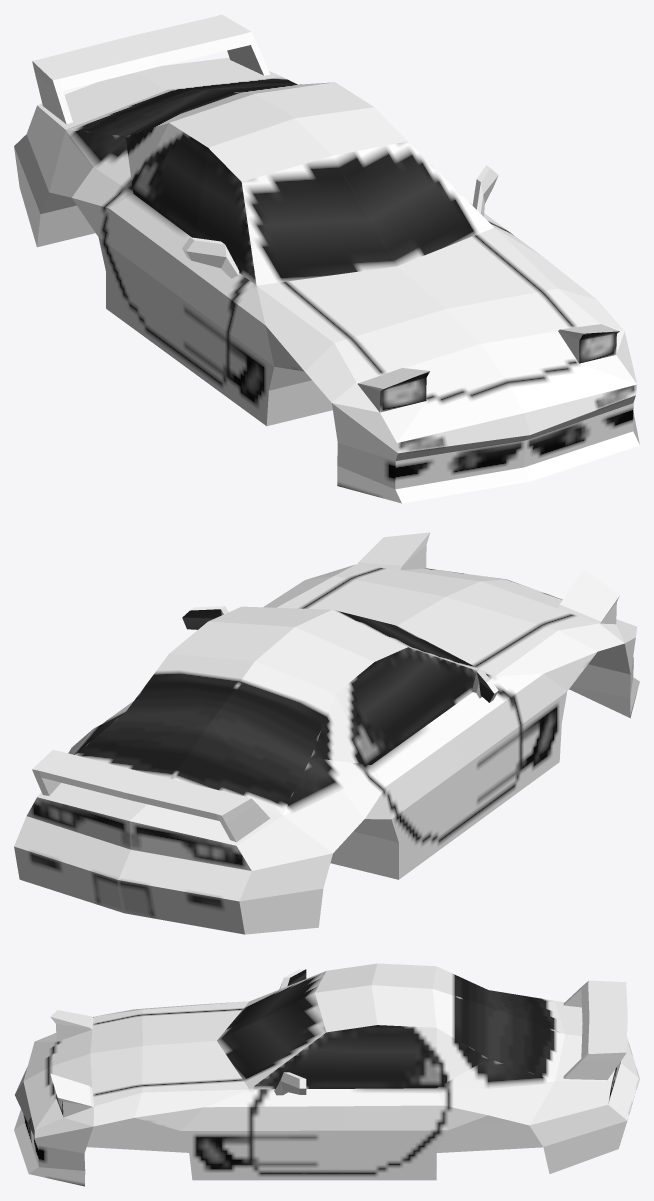
File: 2_seater_coupe.obj
The picture shows the model from 3 angles, top to bottom: view 1: azimuth 30°, elevation 25°; view 2: azimuth 150°, elevation 25°; view 3: azimuth 270°, elevation 25°; orthographic projection. The views are drawn at different scales.
Parts seen in each view (by area): view 1: 2_seater_coupe; view 2: 2_seater_coupe; view 3: 2_seater_coupe.
Part boxes in pixels (left/top/right/bottom): 2_seater_coupe: left=14, top=14, right=639, bottom=503; 2_seater_coupe: left=14, top=532, right=639, bottom=934; 2_seater_coupe: left=14, top=963, right=639, bottom=1186.
Bounding box in the file's own units: 1.88 × 1.11 × 4.29.
Materials: 1 (1 with a texture image).
